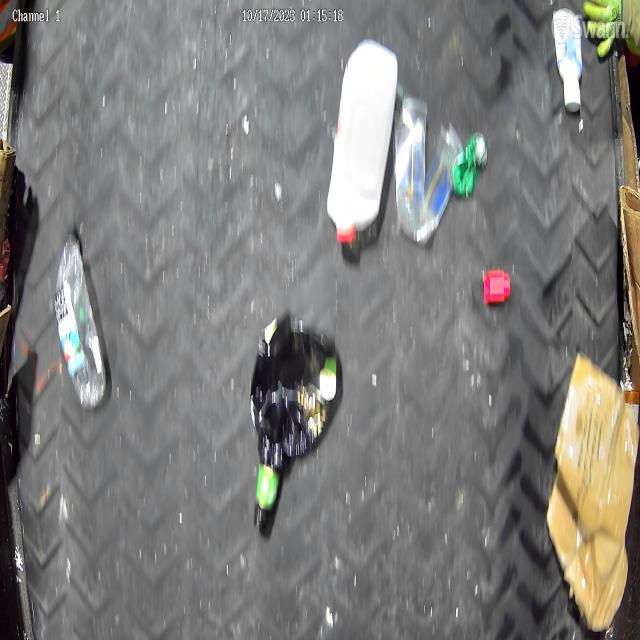milk_jug: (326, 39, 398, 245)
plastic_bottle: (54, 224, 108, 411)
